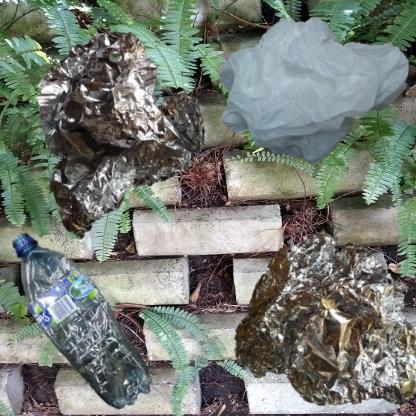aluminio: (10, 10, 240, 259), (213, 213, 416, 416)
bolsa: (213, 10, 416, 173)
botella: (10, 213, 171, 416)
